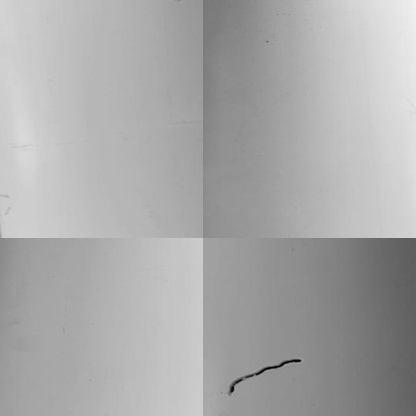fengxi: (219, 352, 305, 399)
